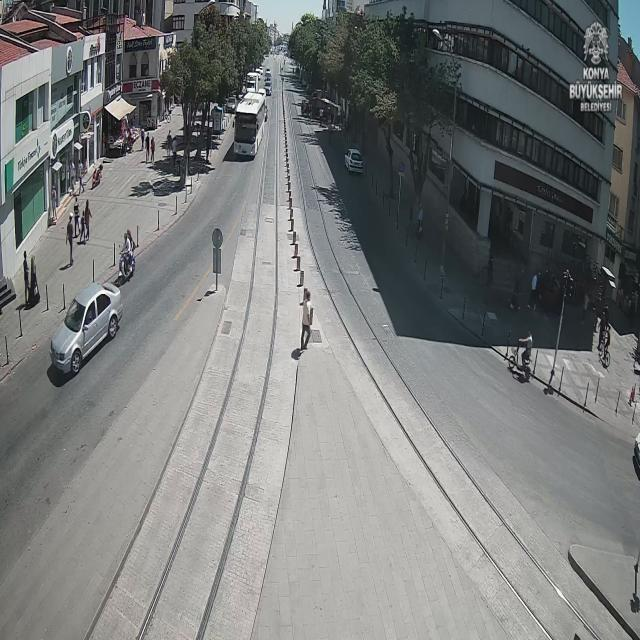Bus: (232, 92, 269, 157)
Car: (49, 281, 123, 375), (344, 147, 365, 176), (224, 96, 237, 113), (262, 81, 274, 95)
Cycle: (508, 342, 536, 381)
Truck: (244, 72, 259, 94)
